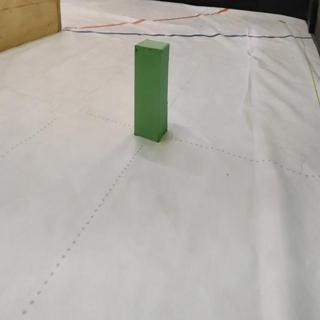greenbox: (132, 37, 172, 144)
